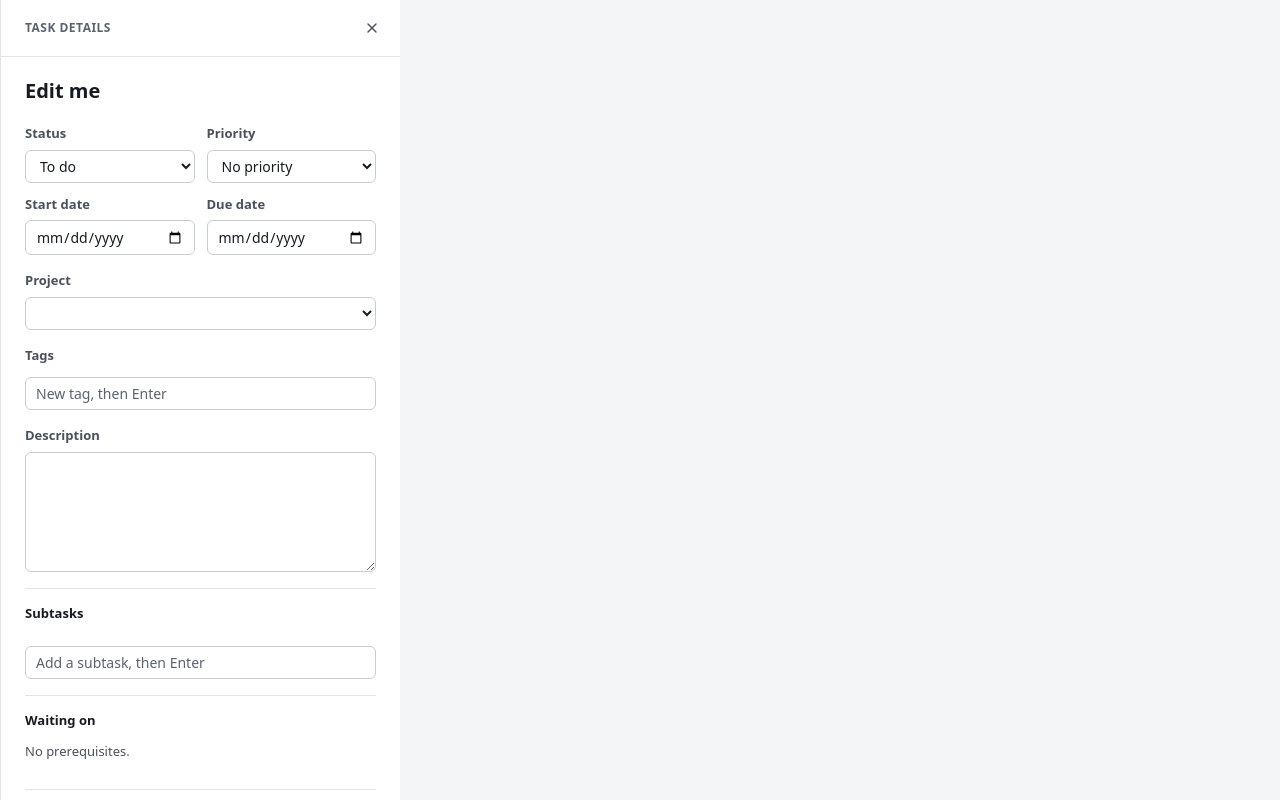
TaskDetails › saves a priority change and reports failures
Select "High" in the dropdown labelled "Priority" at (291, 166), box [206, 150, 376, 182]
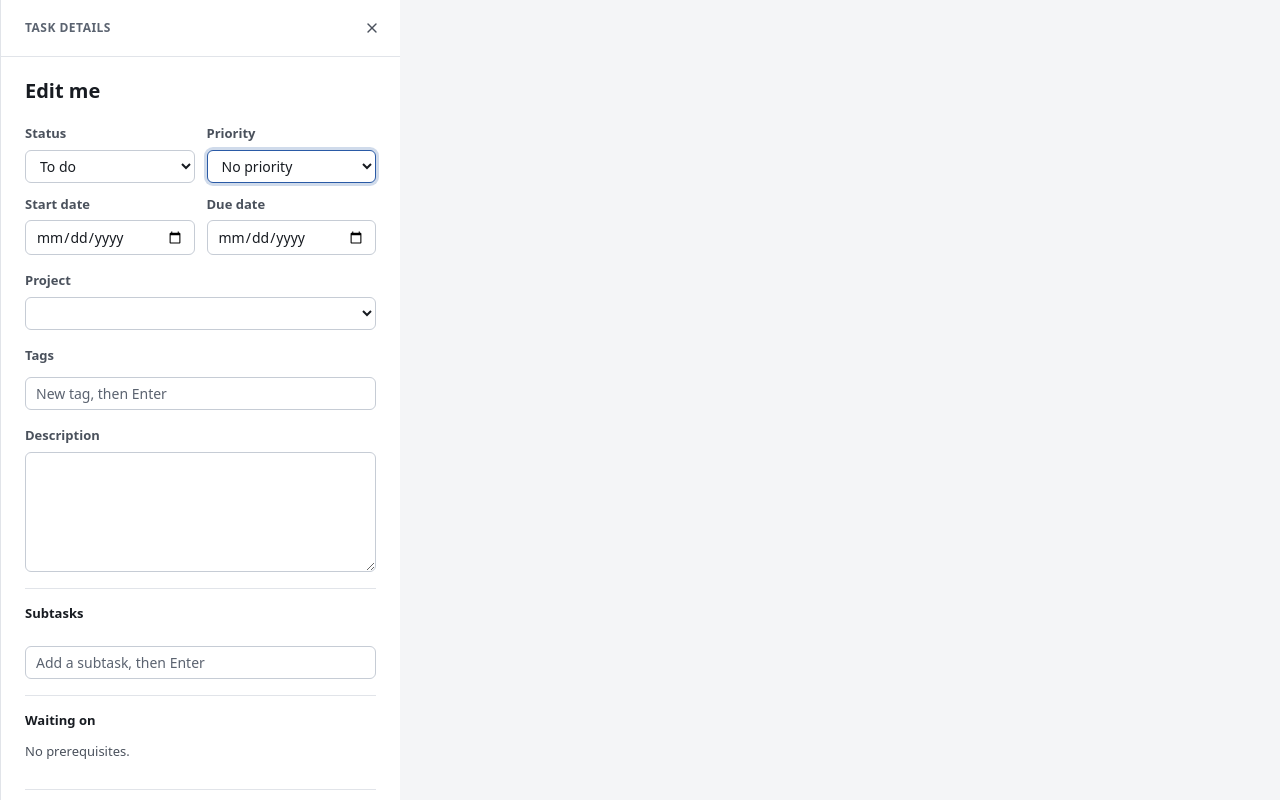
Select "Doing (In progress)" in the dropdown labelled "Status" at (110, 166), box [25, 150, 194, 182]
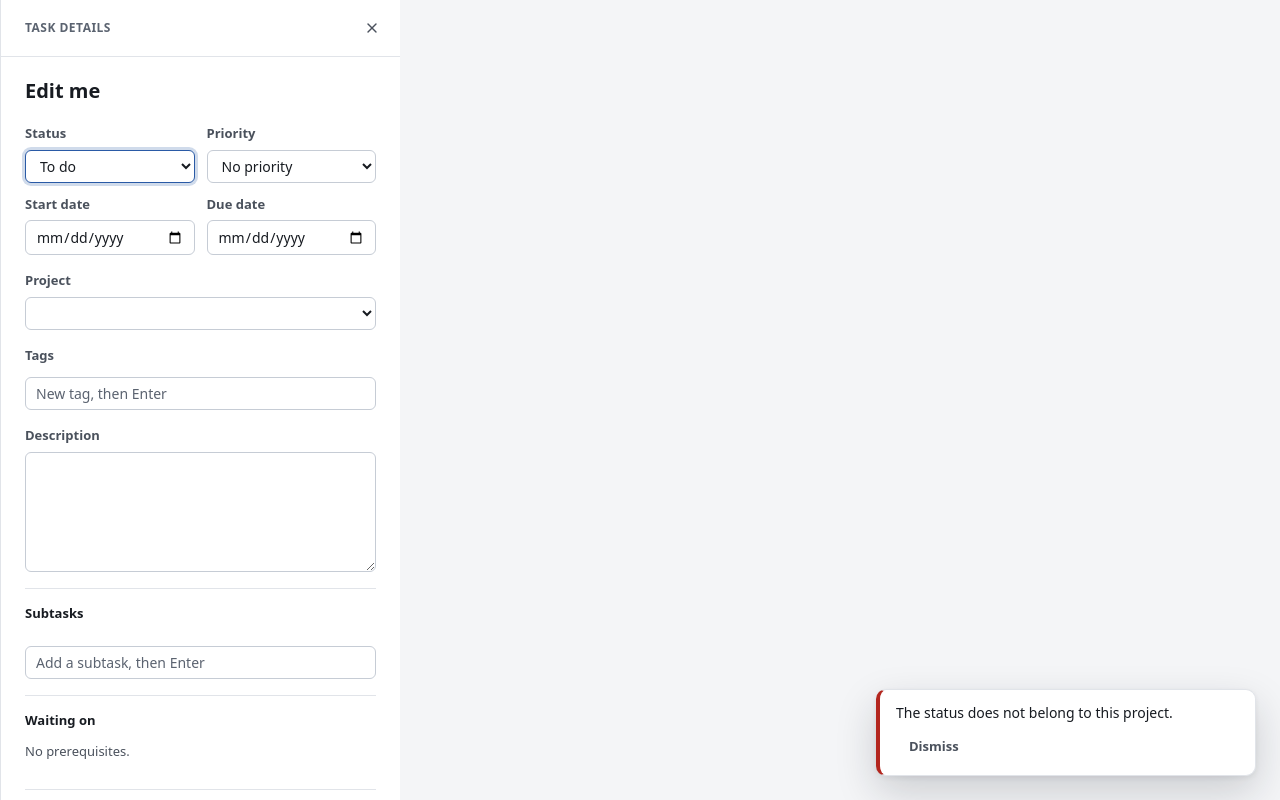
Check: the text "The status does not belong to this project." is shown, box [896, 703, 1173, 722]
